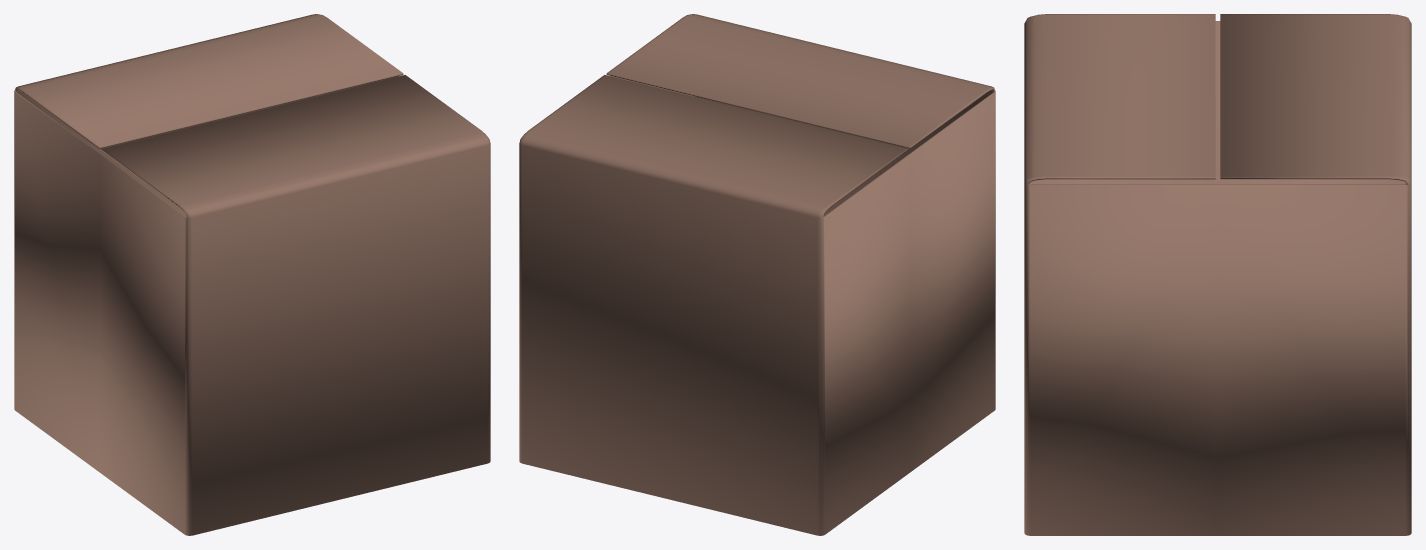
3 renders of one model, left to right at view 1: azimuth 30°, elevation 25°; view 2: azimuth 150°, elevation 25°; view 3: azimuth 270°, elevation 25°, orthographic. The views are drawn at different scales.
Visible parts, largest first — view 1: 09. kardus.002; view 2: 09. kardus.002; view 3: 09. kardus.002.
Boxes of the visible parts, <box> form: 09. kardus.002: <box>14,14,490,535</box>; 09. kardus.002: <box>519,14,995,535</box>; 09. kardus.002: <box>1024,14,1411,535</box>.
Bounding box in the file's own units: 52.3 × 53.13 × 52.06.
